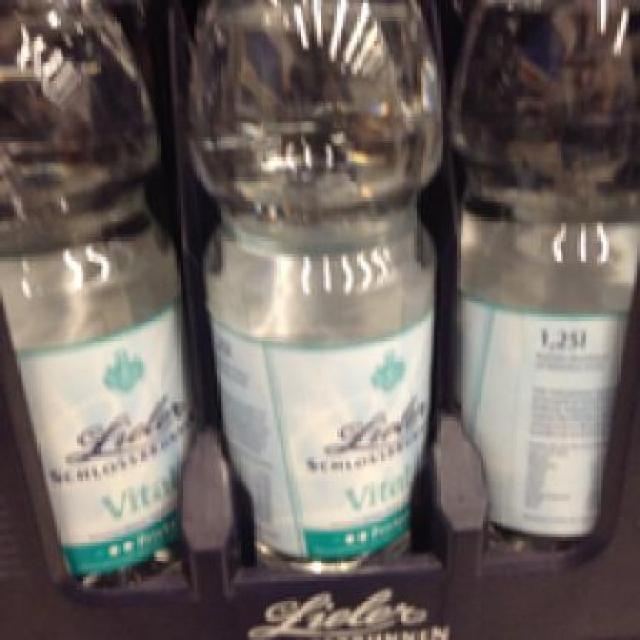Water: (185, 0, 438, 560), (0, 0, 189, 580), (444, 0, 638, 552)
